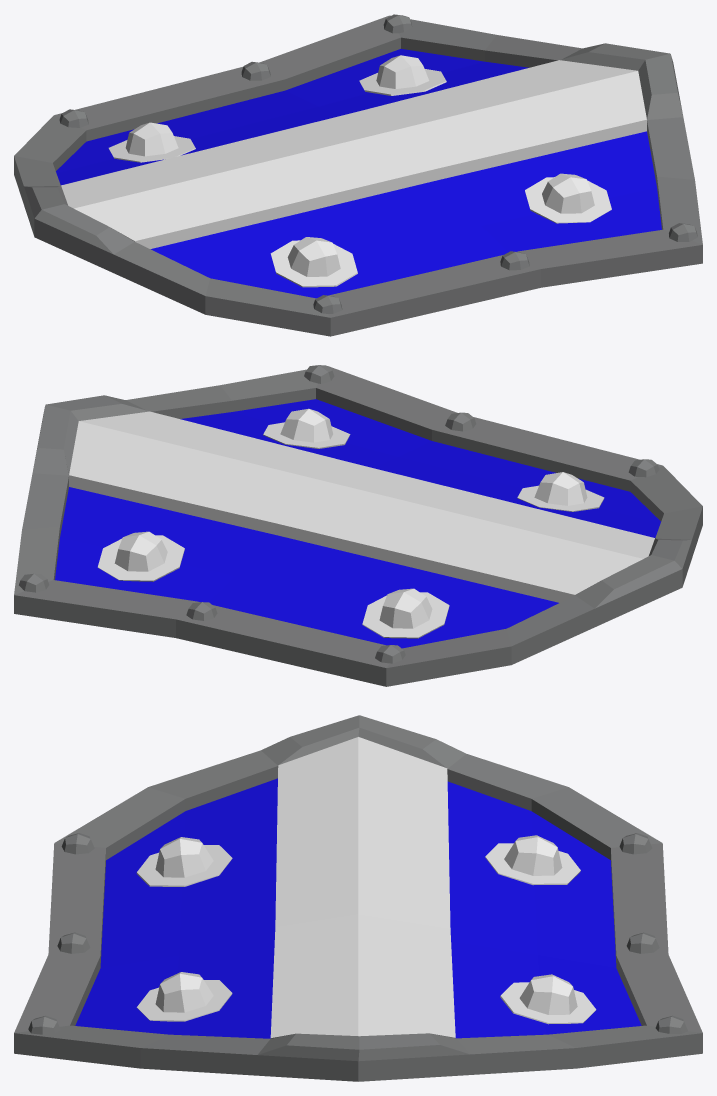
The model's file is shield3.fbx.
3 renders of one model, top to bottom at view 1: azimuth 30°, elevation 25°; view 2: azimuth 150°, elevation 25°; view 3: azimuth 270°, elevation 25°, orthographic. The views are drawn at different scales.
Parts seen in each view (by area): view 1: shield3, Cube.035, Cube.026, Cube.034, Cube.033; view 2: shield3, Cube.033, Cube.034, Cube.026, Cube.035; view 3: shield3, Cube.034, Cube.035, Cube.033, Cube.026.
Part boxes in pixels (bbox=[...]): shield3: bbox=[14, 15, 702, 336]; Cube.035: bbox=[270, 237, 357, 287]; Cube.026: bbox=[525, 173, 611, 223]; Cube.034: bbox=[359, 55, 446, 95]; Cube.033: bbox=[108, 122, 195, 162]; shield3: bbox=[14, 366, 702, 686]; Cube.033: bbox=[362, 588, 449, 638]; Cube.034: bbox=[97, 531, 184, 581]; Cube.026: bbox=[263, 408, 350, 448]; Cube.035: bbox=[517, 472, 604, 511]; shield3: bbox=[14, 715, 702, 1081]; Cube.034: bbox=[500, 974, 596, 1024]; Cube.035: bbox=[136, 837, 232, 886]; Cube.033: bbox=[485, 835, 580, 885]; Cube.026: bbox=[136, 972, 232, 1021].
Bounding box in the file's own units: 325 × 31.31 × 276.
